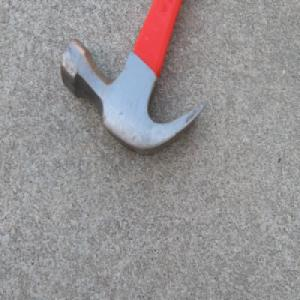Hammer: (59, 0, 209, 158)
